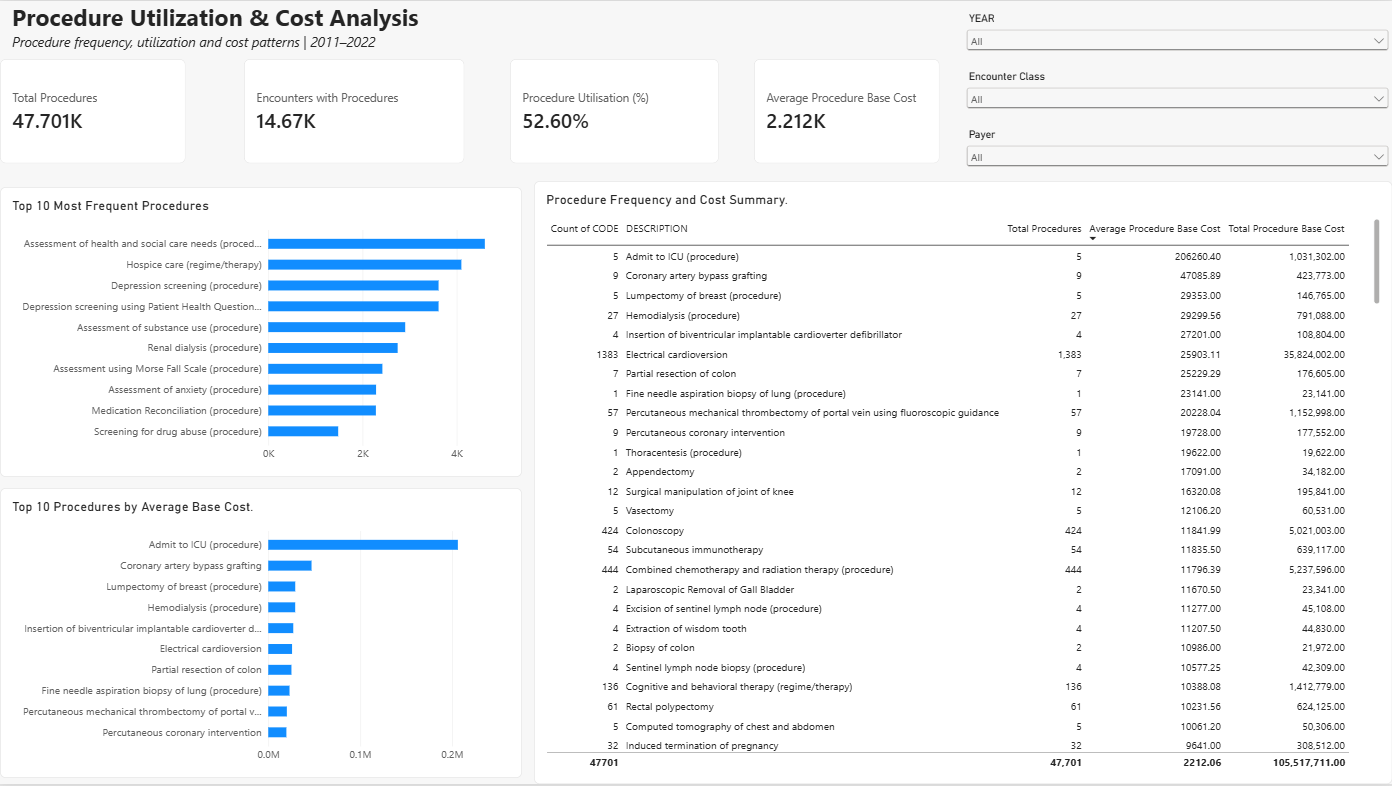

What the dashboard file says about the page in this screenshot:
{"tool":"powerbi","page":{"name":"Procedure Utilisation","canvas":[1920,1080],"ordinal":3},"visuals":[{"type":"textbox","box":[16,0,720,80],"z":0},{"type":"cardVisual","fields":{"Data":["fact_procedures.Total Procedures"]},"box":[0,80,256,144],"z":1},{"type":"cardVisual","fields":{"Data":["fact_encounters.Encounters with Procedures"]},"box":[336,80,304,144],"z":2},{"type":"cardVisual","fields":{"Data":["fact_encounters.Procedure Utilisation (%)"]},"box":[704,80,288,144],"z":3},{"type":"cardVisual","fields":{"Data":["fact_procedures.Average Procedure Base Cost"]},"box":[1040,80,256,144],"z":4},{"type":"clusteredBarChart","title":"Top 10 Most Frequent Procedures","fields":{"Category":["fact_procedures.DESCRIPTION"],"Y":["fact_procedures.Total Procedures"]},"box":[0,256,720,400],"z":5},{"type":"clusteredBarChart","title":"Top 10 Procedures by Average Base Cost.","fields":{"Category":["fact_procedures.DESCRIPTION"],"Y":["fact_procedures.Average Procedure Base Cost"]},"box":[0,672,720,400],"z":6},{"type":"tableEx","title":"Procedure Frequency and Cost Summary.","fields":{"Values":["CountNonNull(fact_procedures.CODE)","fact_procedures.DESCRIPTION","fact_procedures.Total Procedures","fact_procedures.Average Procedure Base Cost","fact_procedures.Total Procedure Base Cost"]},"box":[736,248,1184,832],"z":7},{"type":"slicer","fields":{"Values":["dim_date.YEAR"]},"box":[1328,16,592,80],"z":8},{"type":"slicer","fields":{"Values":["dim_encounter_class.Column1"]},"box":[1328,96,592,80],"z":9},{"type":"slicer","fields":{"Values":["dim_payers.Column2"]},"box":[1328,176,592,80],"z":10}]}

Visuals, with their boxes in screenshot pixels (x1, y1, x2, y2), scaled from the page's 1920x1080 canvas onto the 1392x786 screenshot:
textbox: 12 0 534 58
cardVisual - fact_procedures.Total Procedures: 0 58 186 163
cardVisual - fact_encounters.Encounters with Procedures: 244 58 464 163
cardVisual - fact_encounters.Procedure Utilisation (%): 510 58 719 163
cardVisual - fact_procedures.Average Procedure Base Cost: 754 58 940 163
"Top 10 Most Frequent Procedures" clusteredBarChart: 0 186 522 477
"Top 10 Procedures by Average Base Cost." clusteredBarChart: 0 489 522 780
"Procedure Frequency and Cost Summary." tableEx: 534 180 1391 785
slicer - dim_date.YEAR: 963 12 1391 70
slicer - dim_encounter_class.Column1: 963 70 1391 128
slicer - dim_payers.Column2: 963 128 1391 186
